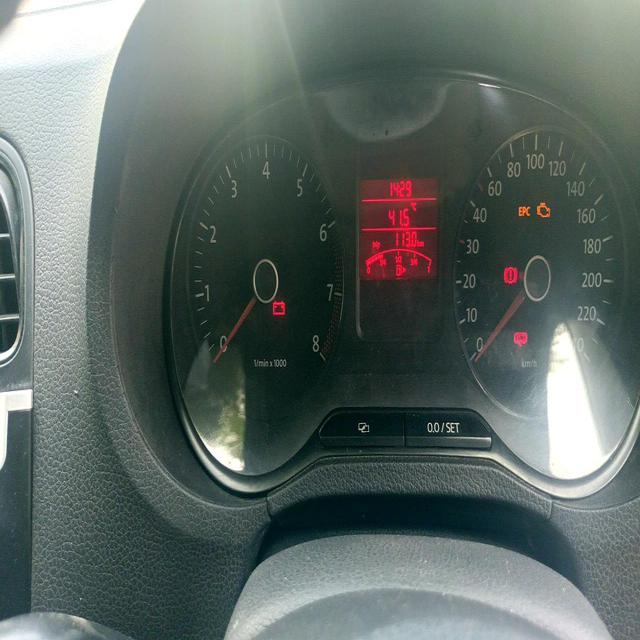odometer: (391, 228, 419, 253)
